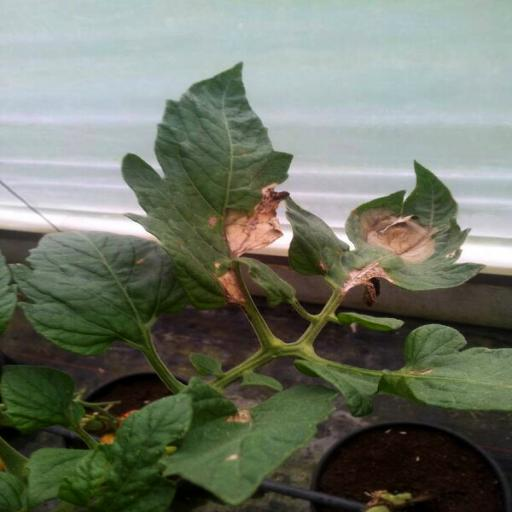disease_tomato: (122, 63, 300, 307), (338, 158, 485, 294)
